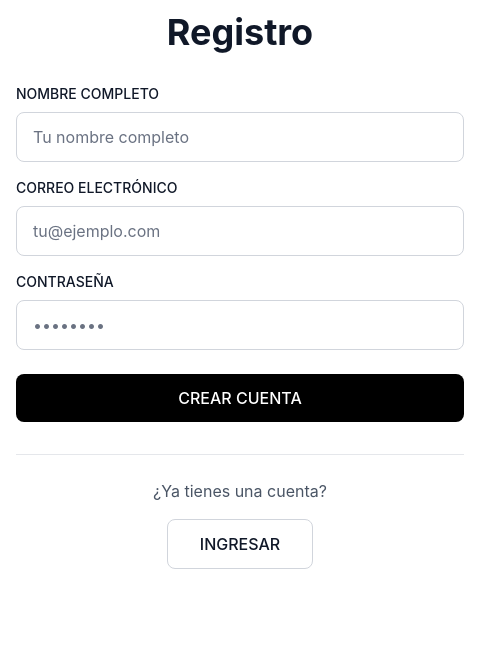
Test case: RegisterForm › shows validation errors for empty fields
The image size is (481, 670).
Click the button "CREAR CUENTA" at [240, 398], box [16,374,464,422]
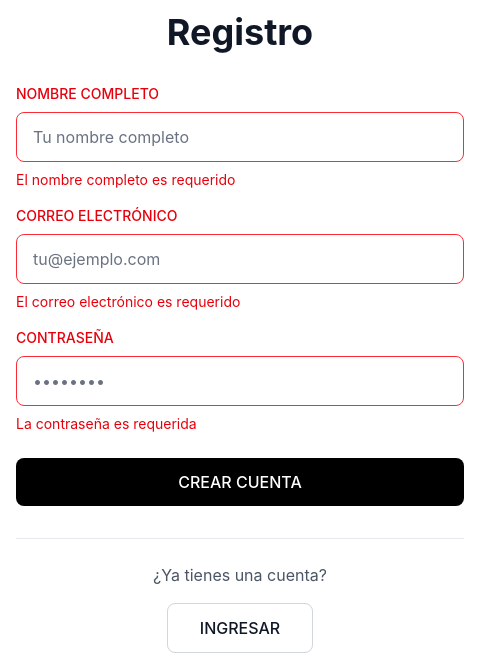
expect the text "El nombre completo es requerido" is shown: met, box [16,171,235,188]
expect the text "El correo electrónico es requerido" is shown: met, box [16,293,240,310]
expect the text "La contraseña es requerida" is shown: met, box [16,415,197,432]
